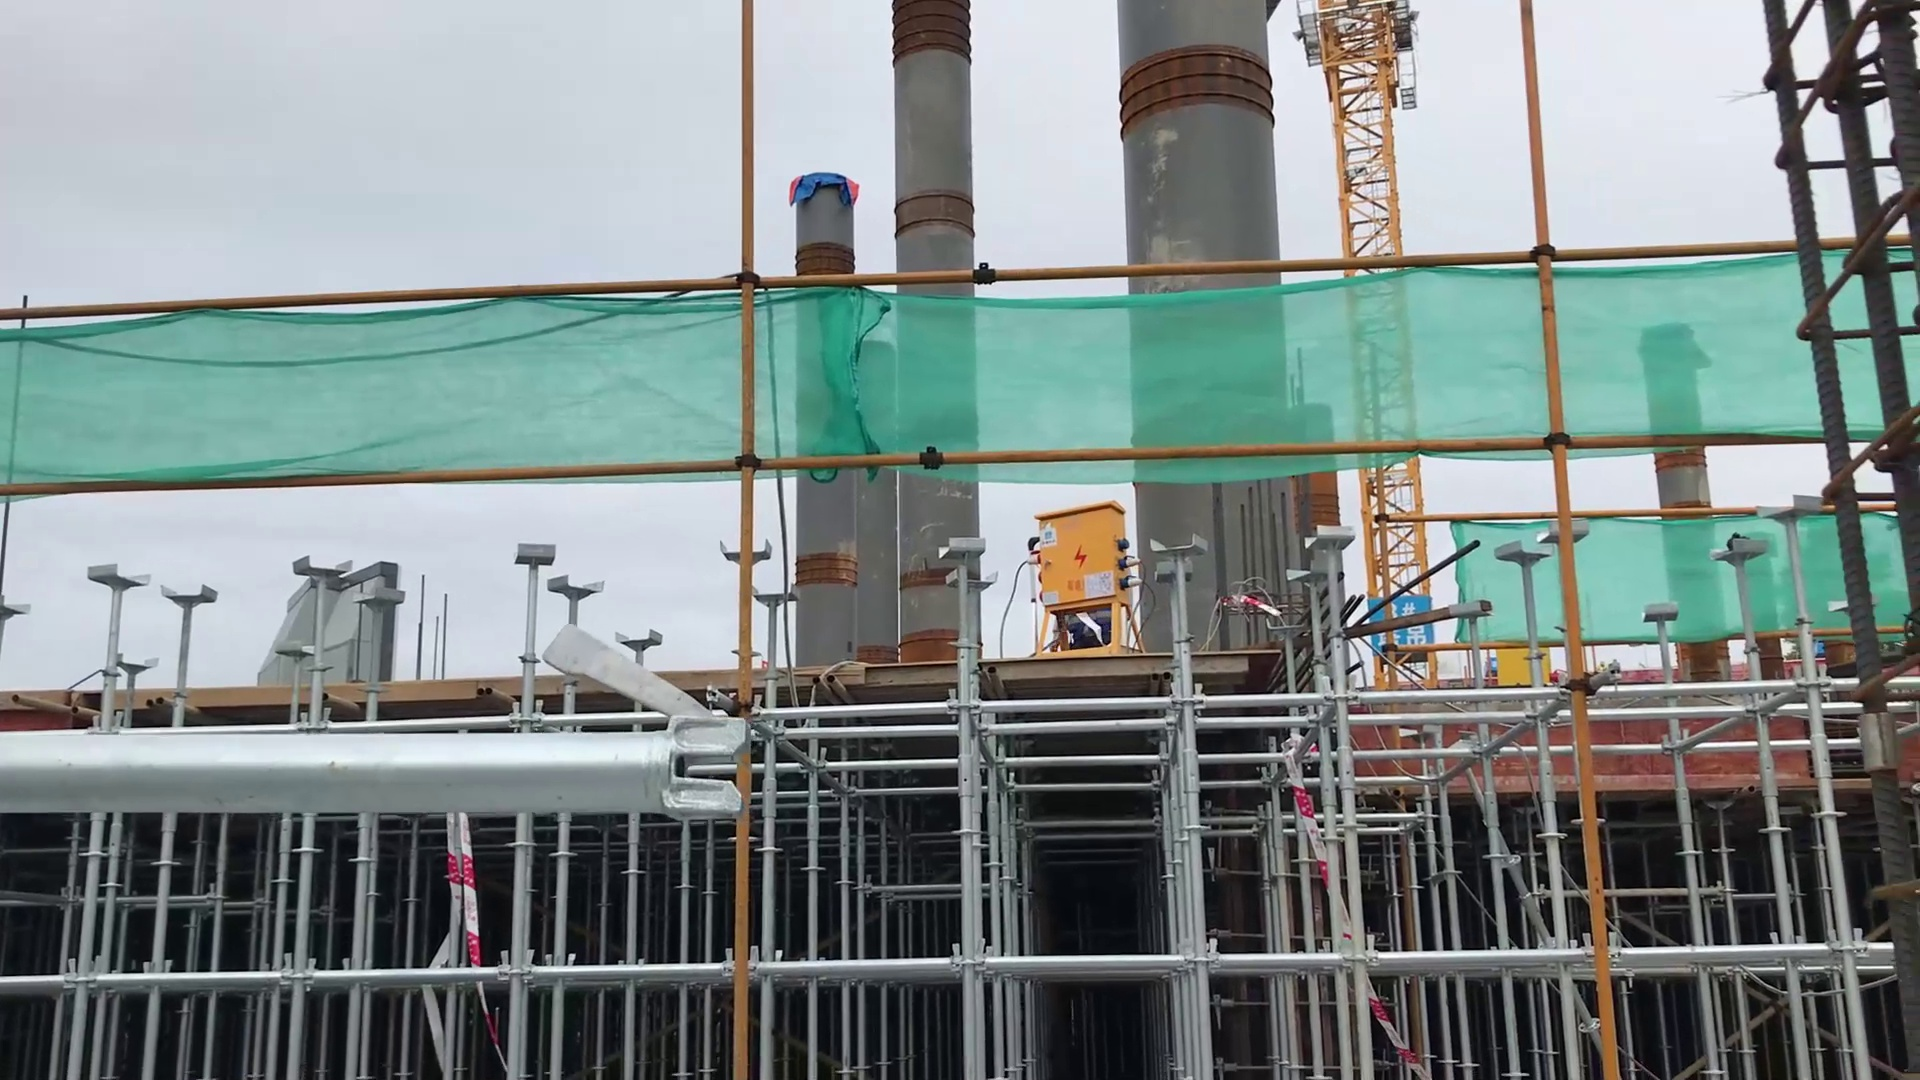ebox: (1033, 498, 1145, 659)
